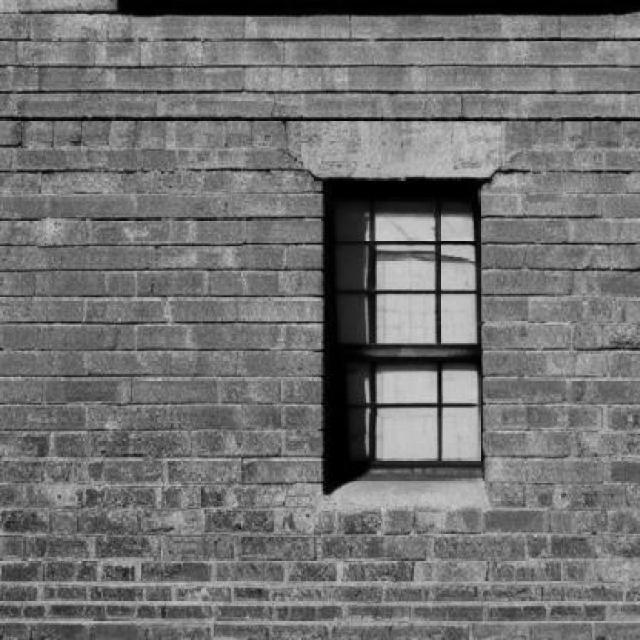window: (324, 178, 484, 478)
